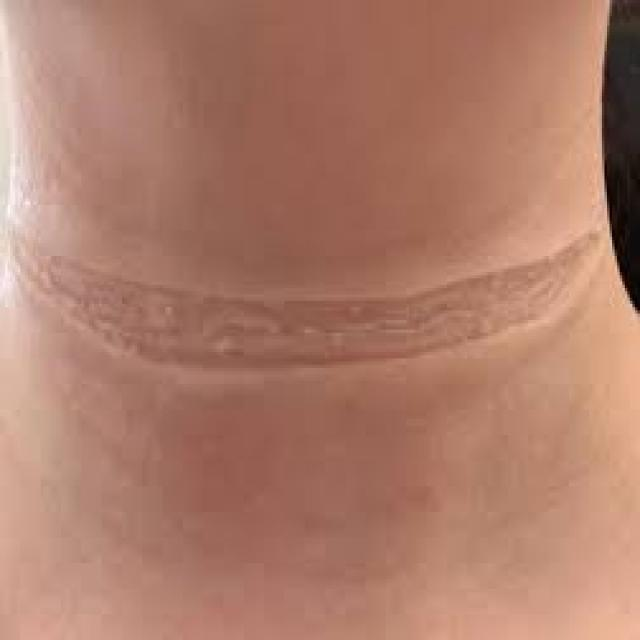Acanthosis Nigricans: (6, 196, 615, 428)
